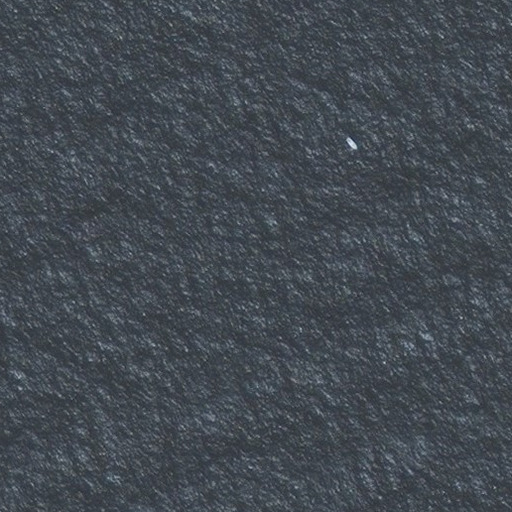ship: (344, 135, 360, 152)
